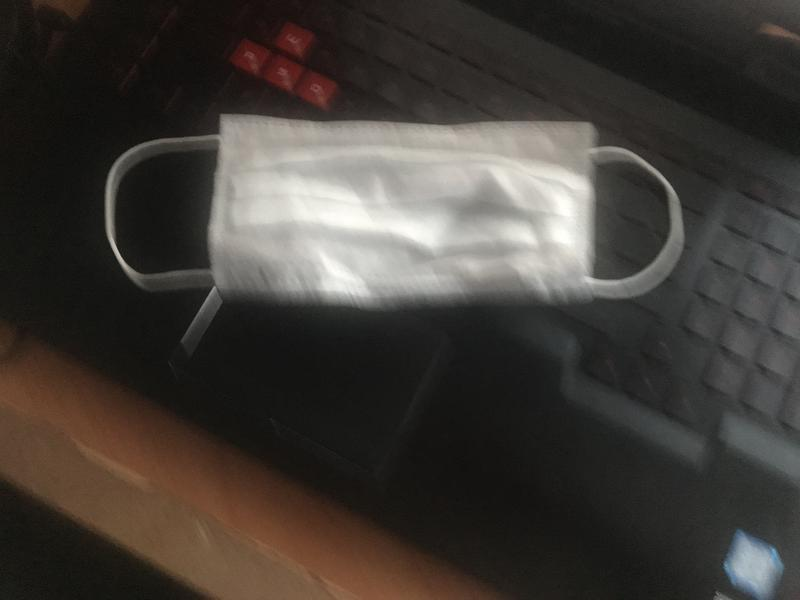medical_mask: (106, 112, 680, 304)
